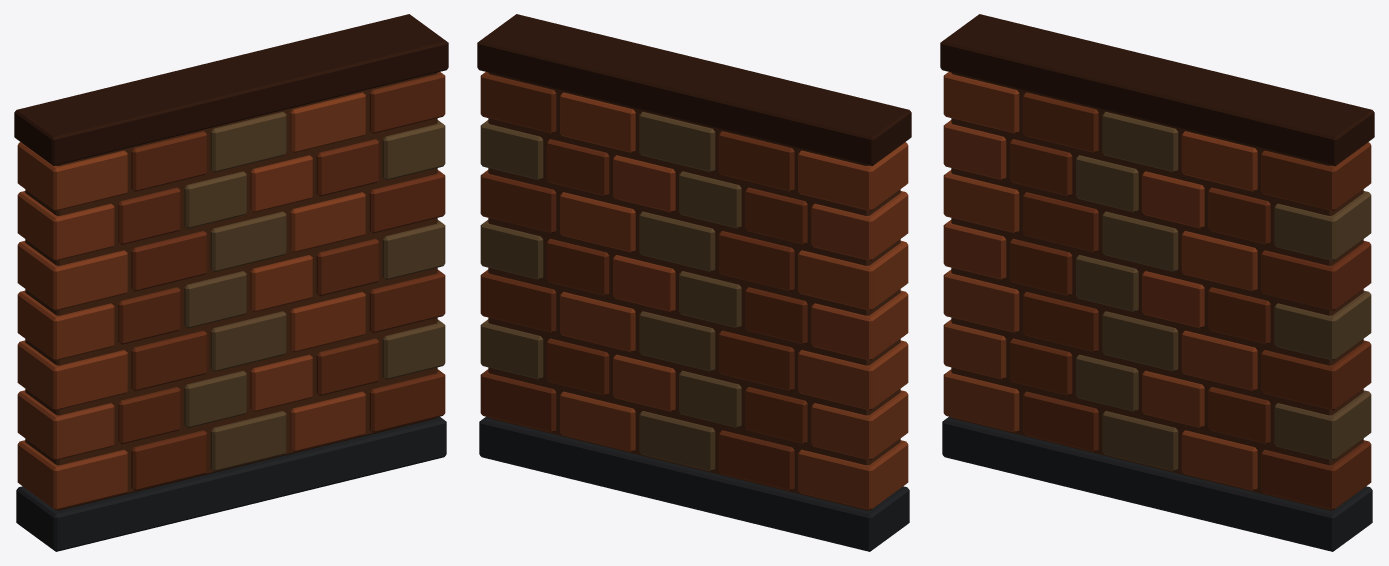
File: mod_adobe_wall_2x2m.glb
3 renders of one model, left to right at view 1: azimuth 30°, elevation 25°; view 2: azimuth 150°, elevation 25°; view 3: azimuth 330°, elevation 25°, orthographic.
Visible parts, largest first — view 1: Mod_Adobe_Wall_2x2m; view 2: Mod_Adobe_Wall_2x2m; view 3: Mod_Adobe_Wall_2x2m.
Part boxes in pixels (box(x1,y1,x2,y2)): Mod_Adobe_Wall_2x2m: box(14, 14, 448, 551); Mod_Adobe_Wall_2x2m: box(477, 14, 911, 551); Mod_Adobe_Wall_2x2m: box(940, 14, 1374, 551).
Size of the model in its own units: 2 by 2 by 0.35.
